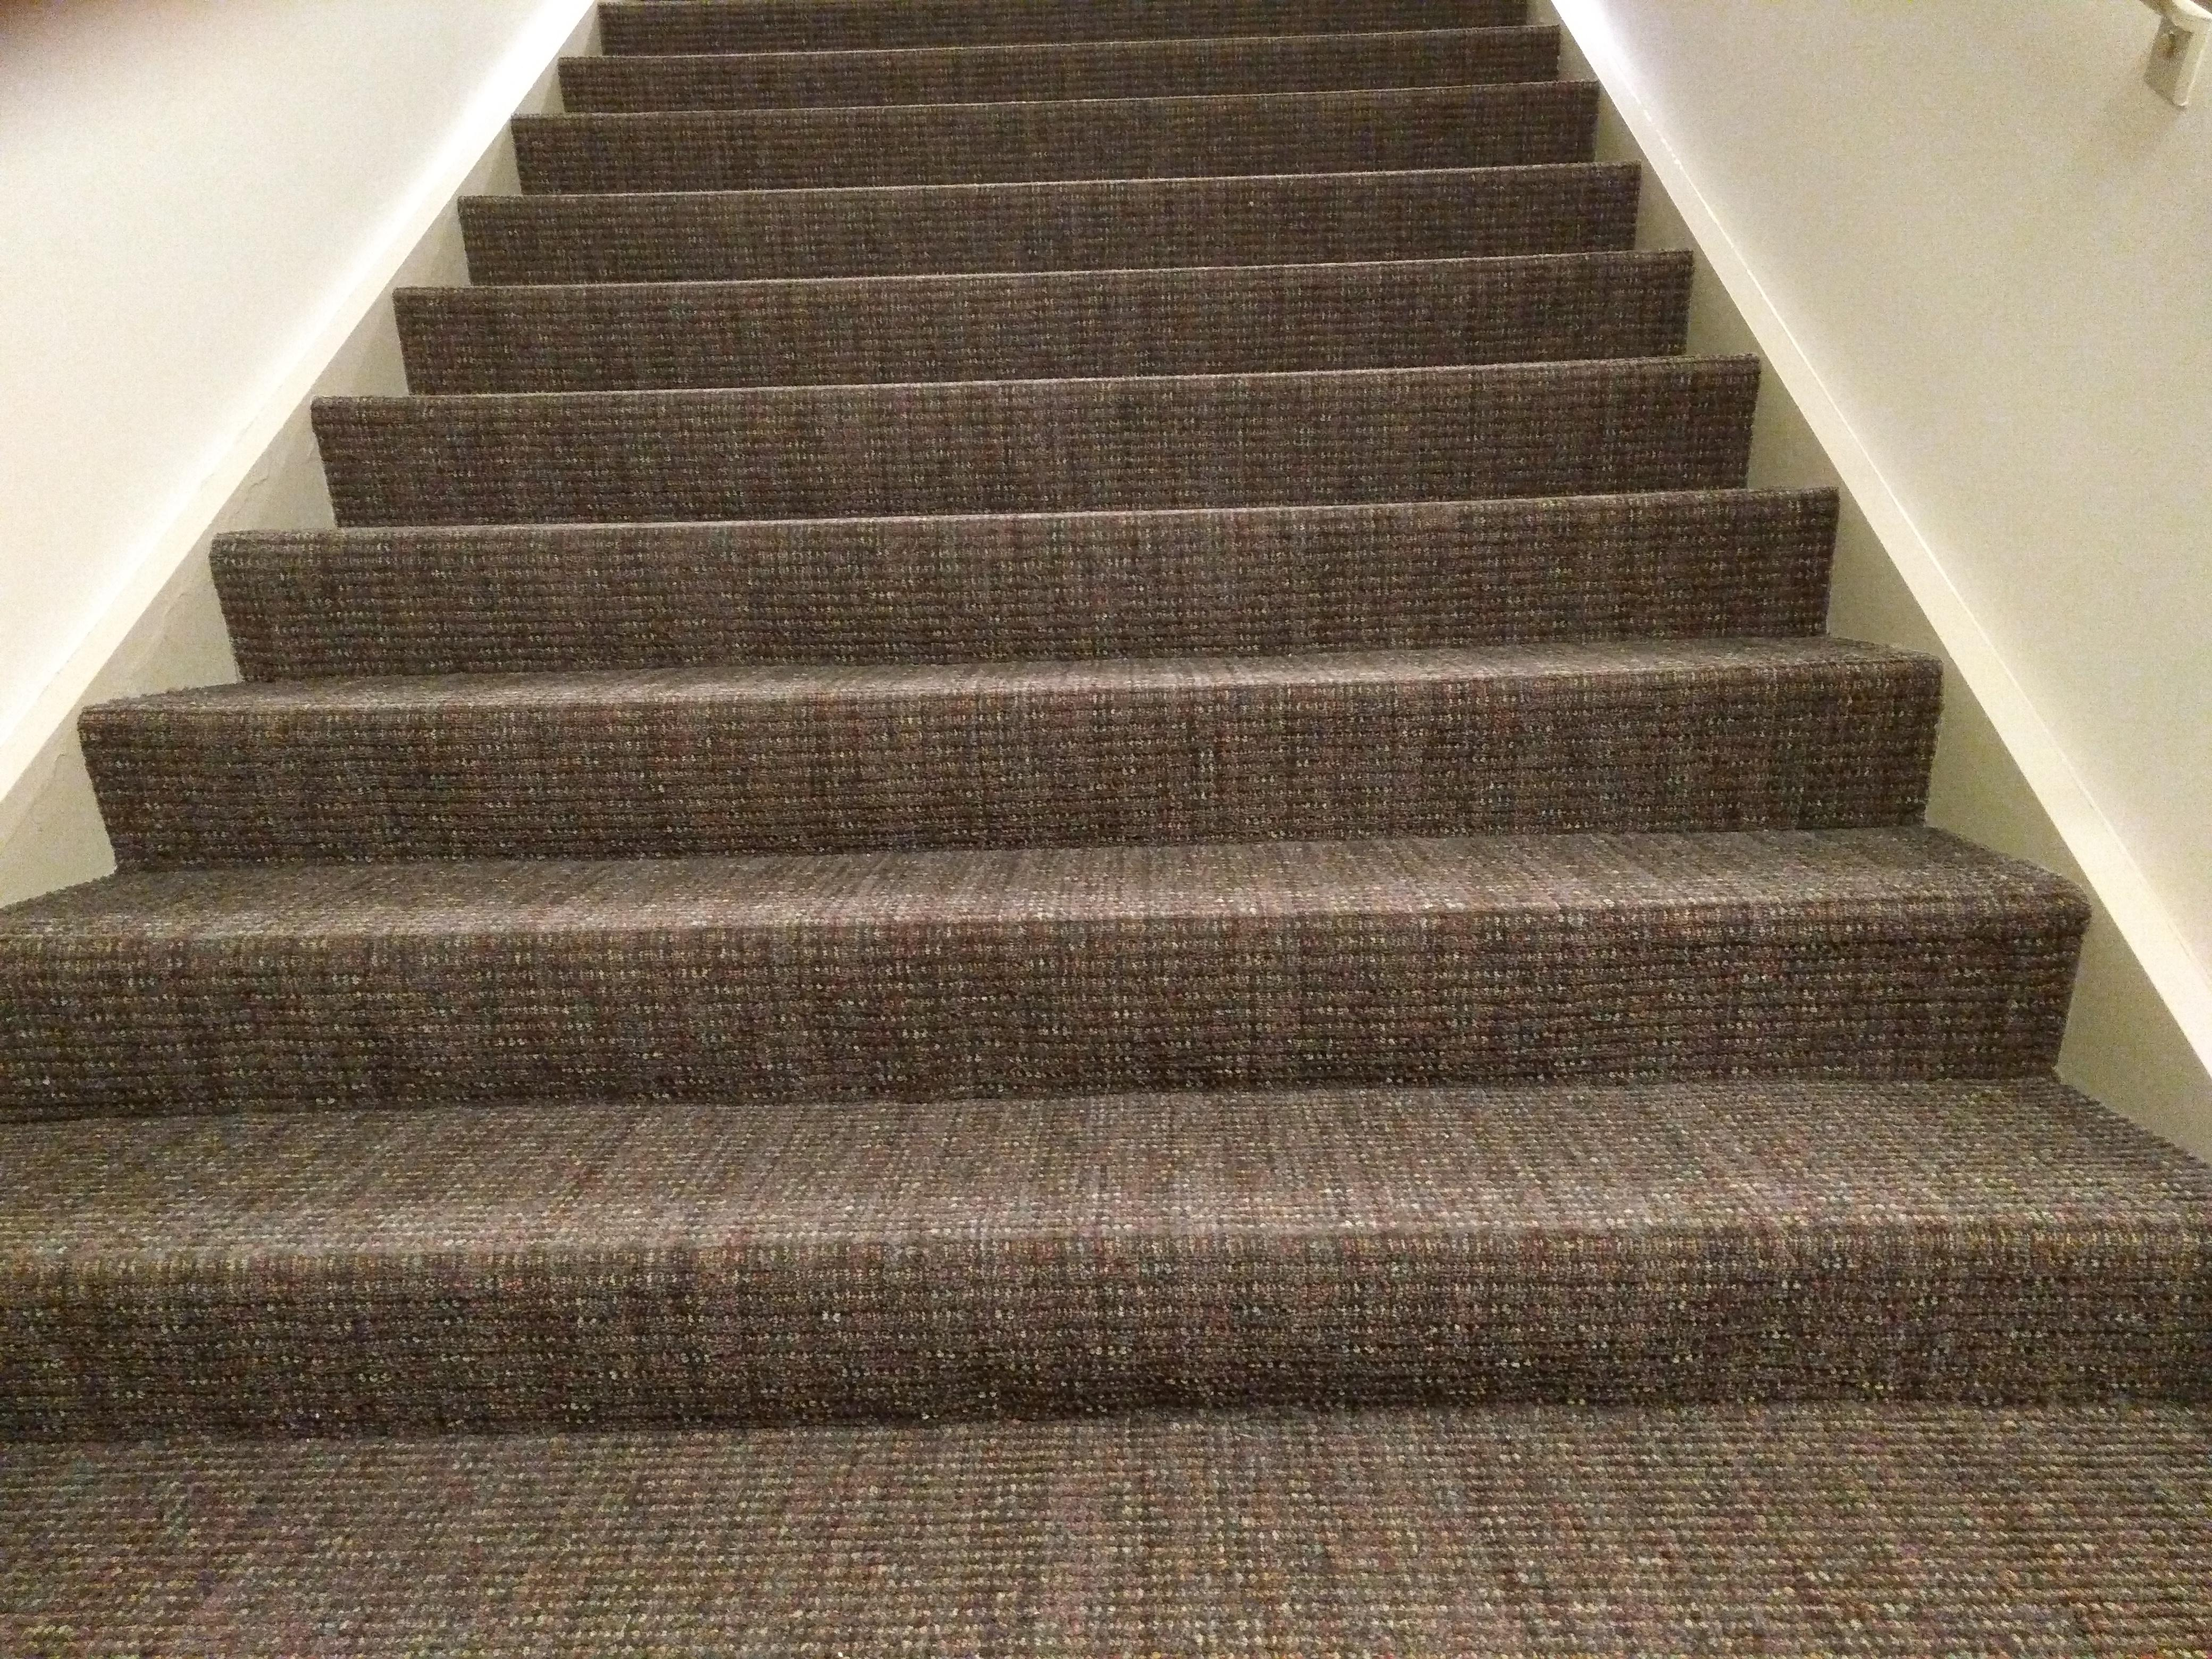stairs_up: (9, 5, 2212, 1415)
